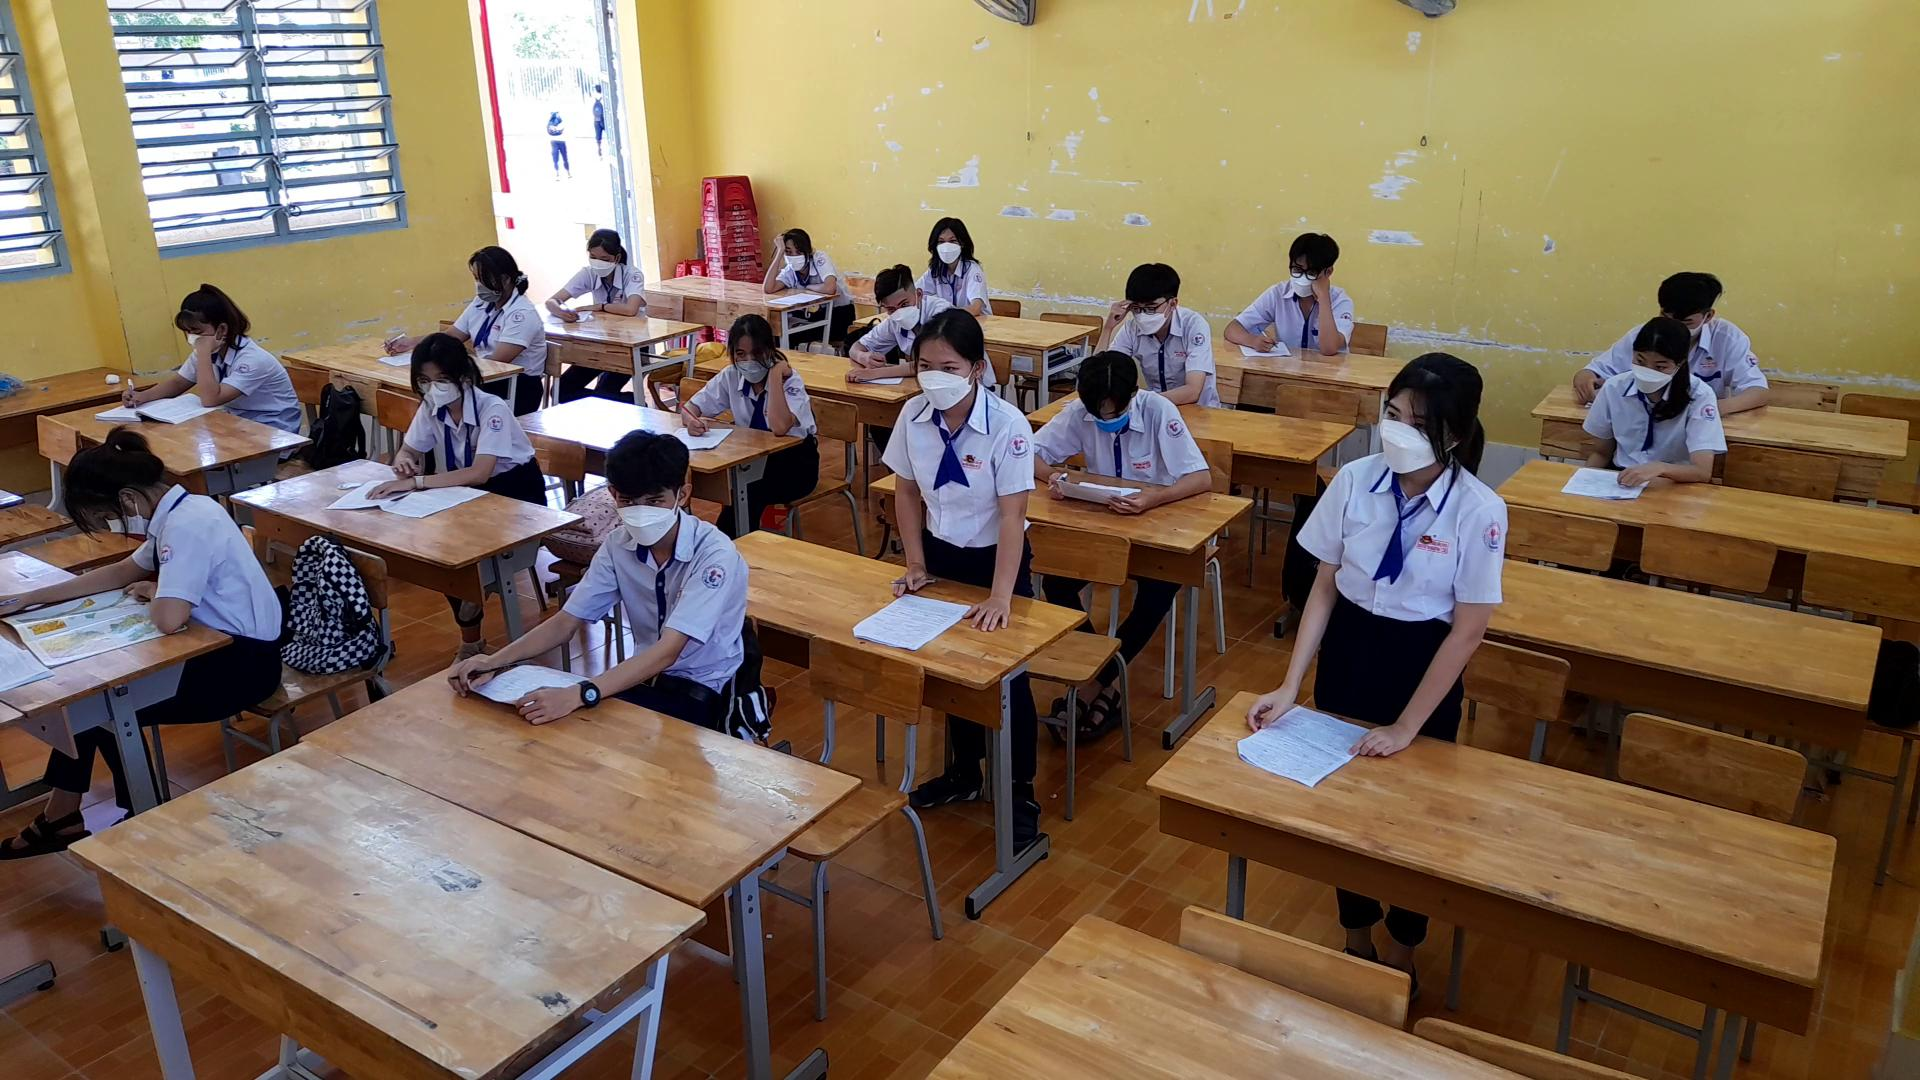Hand Under Table: (1576, 368, 1618, 480)
Normal: (444, 421, 781, 723), (1034, 340, 1212, 520), (373, 332, 531, 508), (542, 202, 655, 342), (463, 224, 554, 392), (909, 208, 998, 316)
Stand Up: (1244, 348, 1513, 760), (881, 305, 1034, 632)
Wave: (185, 324, 251, 413), (756, 348, 796, 444), (1309, 260, 1349, 357), (752, 218, 787, 299)
